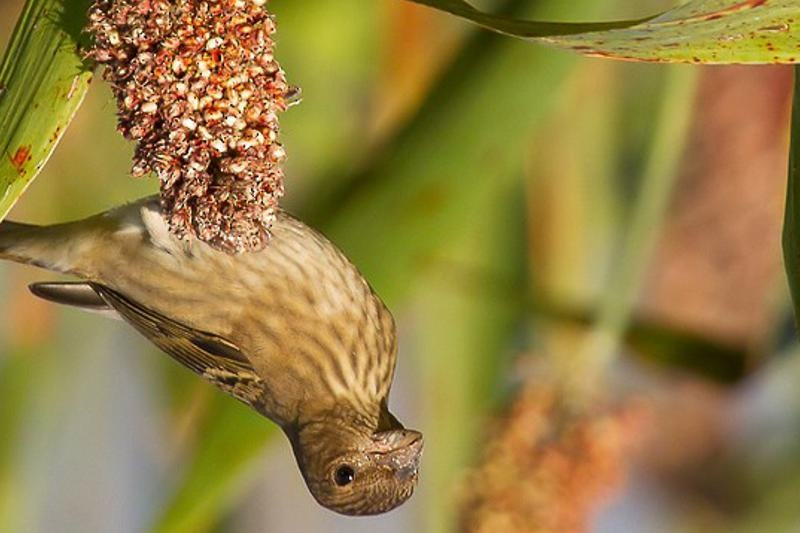rosefinch: (40, 155, 450, 517)
